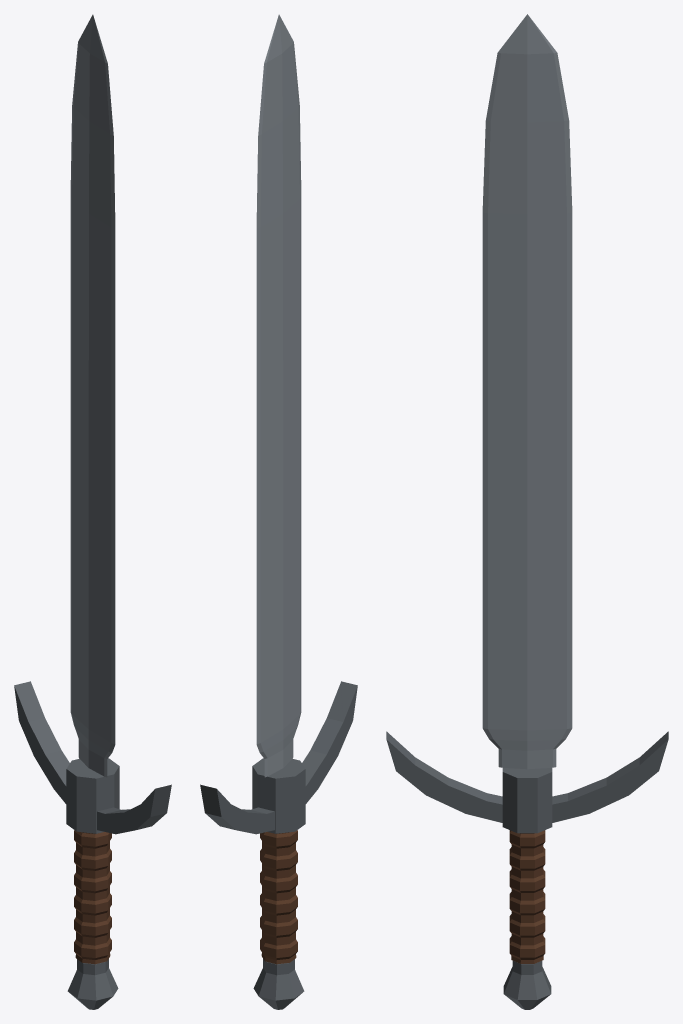
Rendered from WP_Sword_02.glb.
3 views of the same model, side by side, from view 1: azimuth 30°, elevation 25°; view 2: azimuth 150°, elevation 25°; view 3: azimuth 270°, elevation 25° (orthographic).
Visible parts, largest first — view 1: WP_Sword_02; view 2: WP_Sword_02; view 3: WP_Sword_02.
Part boxes in pixels (left/top/right/bottom): WP_Sword_02: left=14, top=14, right=171, bottom=1009; WP_Sword_02: left=200, top=14, right=357, bottom=1009; WP_Sword_02: left=386, top=14, right=668, bottom=1009.
Size of the model in its own units: 0.0462 by 1.02 by 0.264.
